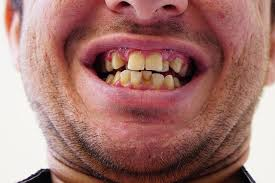normal: (170, 57, 180, 73), (165, 75, 174, 89), (180, 62, 188, 75), (105, 59, 111, 70), (173, 75, 179, 86)
rough: (121, 56, 128, 68)
yellow: (145, 51, 161, 71), (129, 52, 145, 71), (129, 72, 142, 85), (152, 74, 163, 89), (113, 54, 121, 68), (143, 71, 151, 82), (163, 61, 170, 72), (105, 74, 113, 83), (114, 72, 120, 84), (121, 71, 127, 82)
